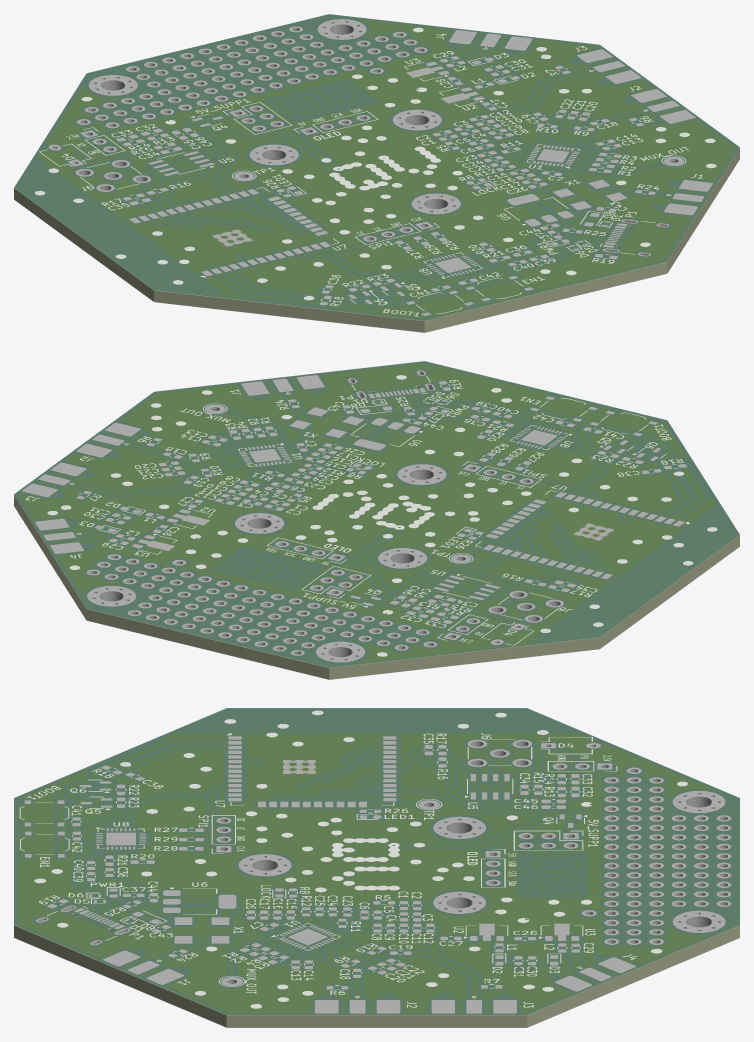
Rendered from uncut-gem-quantum-village.glb.
3 views of the same model, one above another, from view 1: azimuth 30°, elevation 25°; view 2: azimuth 150°, elevation 25°; view 3: azimuth 270°, elevation 25° (orthographic). The views are drawn at different scales.
Parts seen in each view (by area): view 1: =>[0:1:1:7], =>[0:1:1:2], =>[0:1:1:9], =>[0:1:1:5]; view 2: =>[0:1:1:7], =>[0:1:1:2], =>[0:1:1:9], =>[0:1:1:5]; view 3: =>[0:1:1:7], =>[0:1:1:2], =>[0:1:1:9], =>[0:1:1:5].
Boxes of the visible parts, <box> form: =>[0:1:1:7]: <box>14,14,739,332</box>; =>[0:1:1:2]: <box>38,19,734,318</box>; =>[0:1:1:9]: <box>14,15,739,332</box>; =>[0:1:1:5]: <box>35,27,716,316</box>; =>[0:1:1:7]: <box>14,361,739,679</box>; =>[0:1:1:2]: <box>19,363,715,662</box>; =>[0:1:1:9]: <box>14,362,739,679</box>; =>[0:1:1:5]: <box>25,375,717,656</box>; =>[0:1:1:7]: <box>14,708,739,1027</box>; =>[0:1:1:2]: <box>19,734,731,1013</box>; =>[0:1:1:9]: <box>14,709,739,1027</box>; =>[0:1:1:5]: <box>19,710,687,1008</box>.
Size of the model in its own units: 0.0821 by 0.00166 by 0.0821.
Materials: 4 (4 with a texture image).
